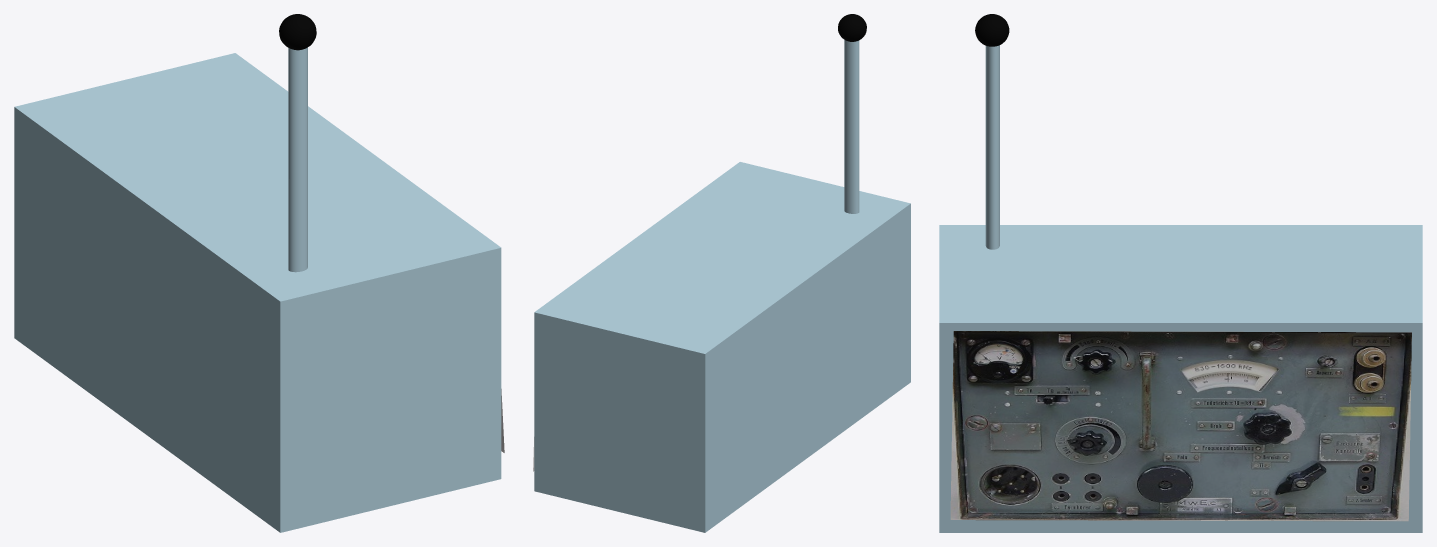
Rendered from radio.fbx.
3 views of the same model, side by side, from view 1: azimuth 30°, elevation 25°; view 2: azimuth 150°, elevation 25°; view 3: azimuth 270°, elevation 25° (orthographic). The views are drawn at different scales.
Parts seen in each view (by area): view 1: polySurface1; view 2: polySurface1; view 3: polySurface1.
Part boxes in pixels (x1,y1,x2,y2): polySurface1: (14, 14, 504, 532); polySurface1: (533, 14, 910, 532); polySurface1: (939, 14, 1422, 532).
Bounding box in the file's own units: 1.04 × 2.09 × 2.09.
